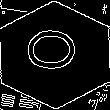O_E: (25, 33, 85, 77)
